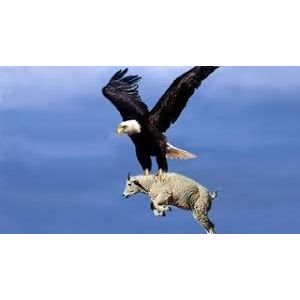eagle: (84, 65, 223, 178)
